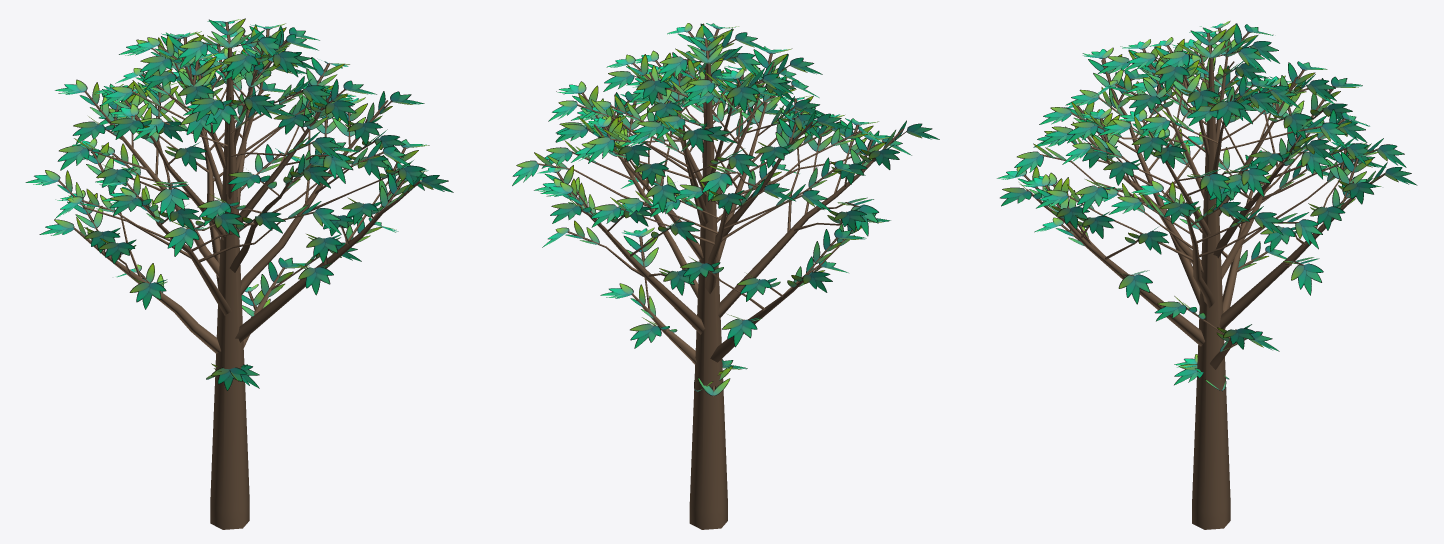
Rendered from trunkleaf.gltf.
3 views of the same model, side by side, from view 1: azimuth 30°, elevation 25°; view 2: azimuth 150°, elevation 25°; view 3: azimuth 270°, elevation 25° (orthographic). The views are drawn at different scales.
Parts seen in each view (by area): view 1: leaves, bark; view 2: leaves, bark; view 3: leaves, bark.
Part boxes in pixels (x1,y1,x2,y2): leaves: (25,18,453,390); bark: (58,43,419,529); leaves: (512,23,939,396); bark: (537,41,903,529); leaves: (997,21,1417,391); bark: (1024,41,1385,529).
Size of the model in its own units: 4.42 by 5.42 by 4.6.
2 materials, 1 textured.
